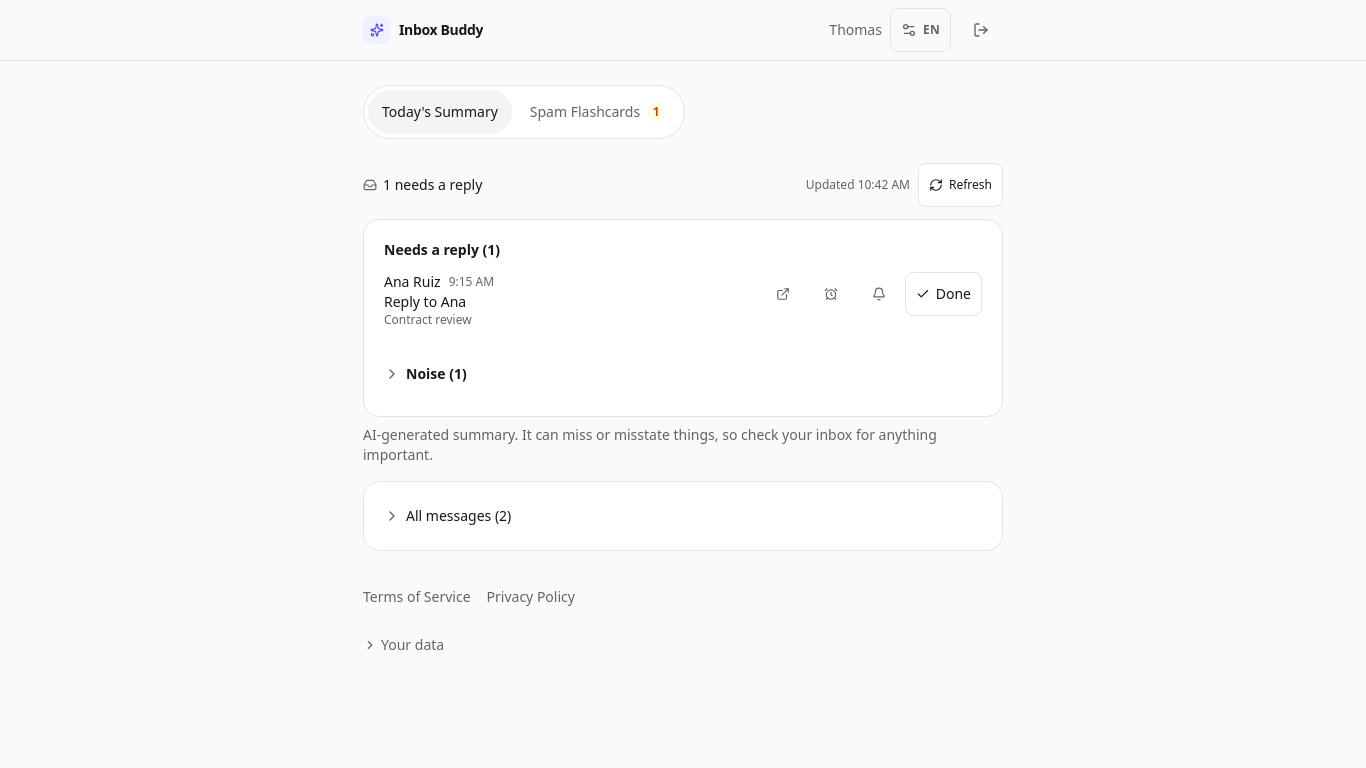
Test: Dashboard › summary tab › with only Noise left, the header says how many are collapsed there instead of an all-clear
Click the button with aria-label "Mark “Contract review” done and archive it" at x=943, y=294, box [905,272,982,316]
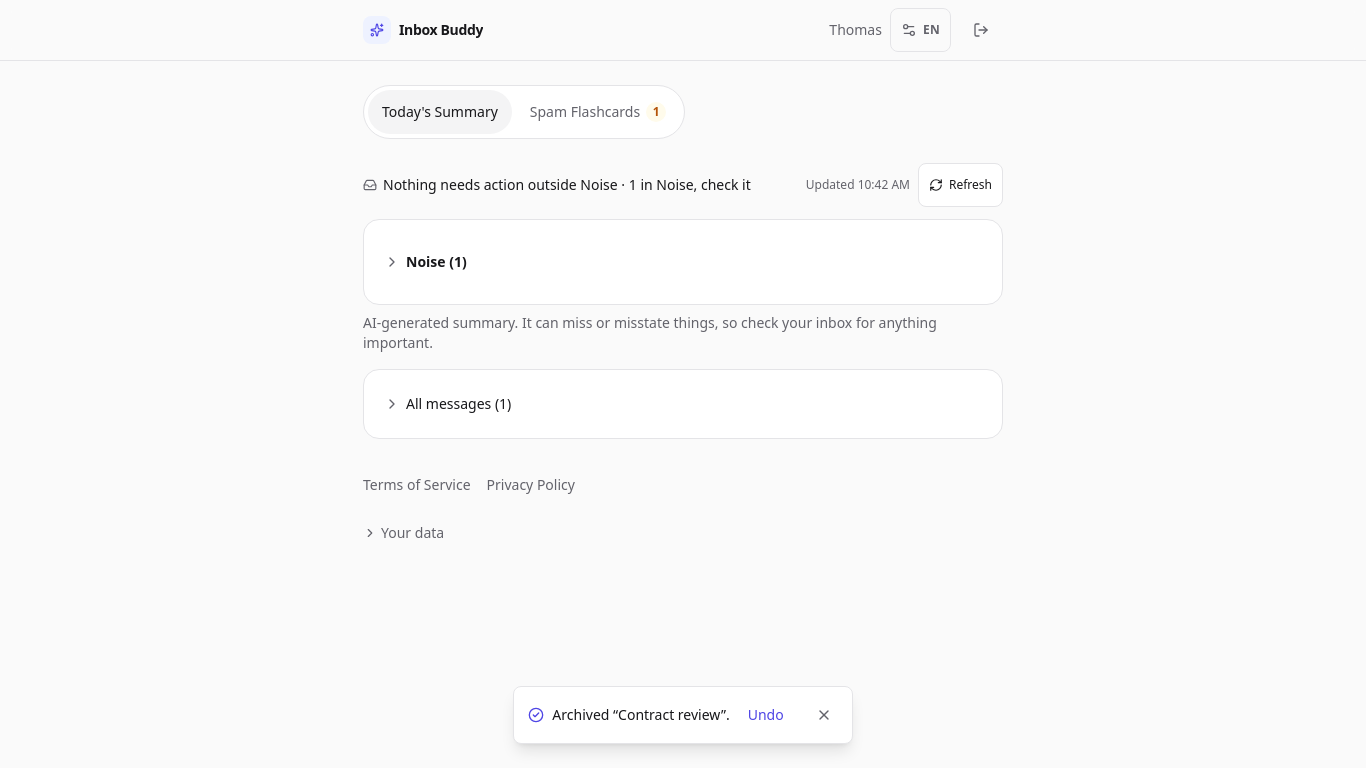
Check: the heading "Noise (1)" is shown, box [384,252,467,271]
Check: the text "Nothing needs action outside Noise · 1 in Noise, check it" is shown, box [383,175,751,195]
